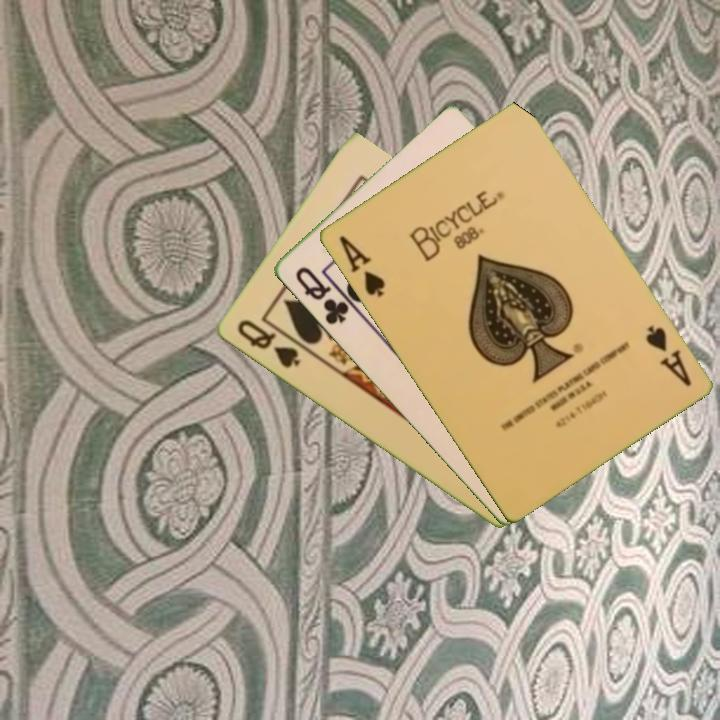As: (335, 231, 388, 301), (641, 321, 694, 389)
Qc: (291, 263, 352, 328)
Qs: (233, 316, 303, 372)
